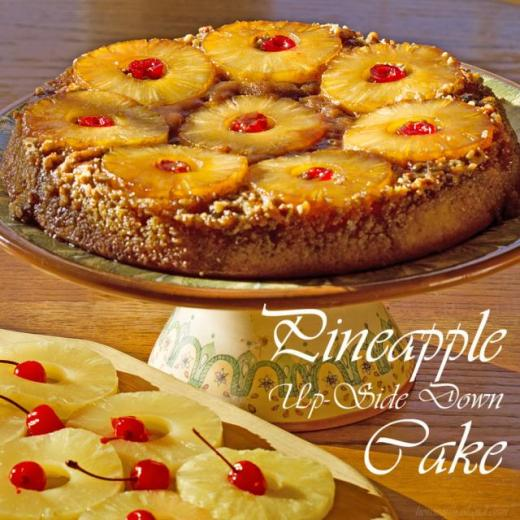Mango: (65, 387, 227, 478), (173, 446, 337, 519), (0, 426, 127, 520), (340, 94, 495, 169), (177, 90, 330, 164), (71, 33, 218, 108), (320, 40, 466, 113), (19, 88, 171, 152), (201, 17, 344, 84), (0, 337, 120, 415), (99, 141, 244, 205), (247, 148, 396, 210), (78, 486, 217, 520), (0, 404, 29, 442)
